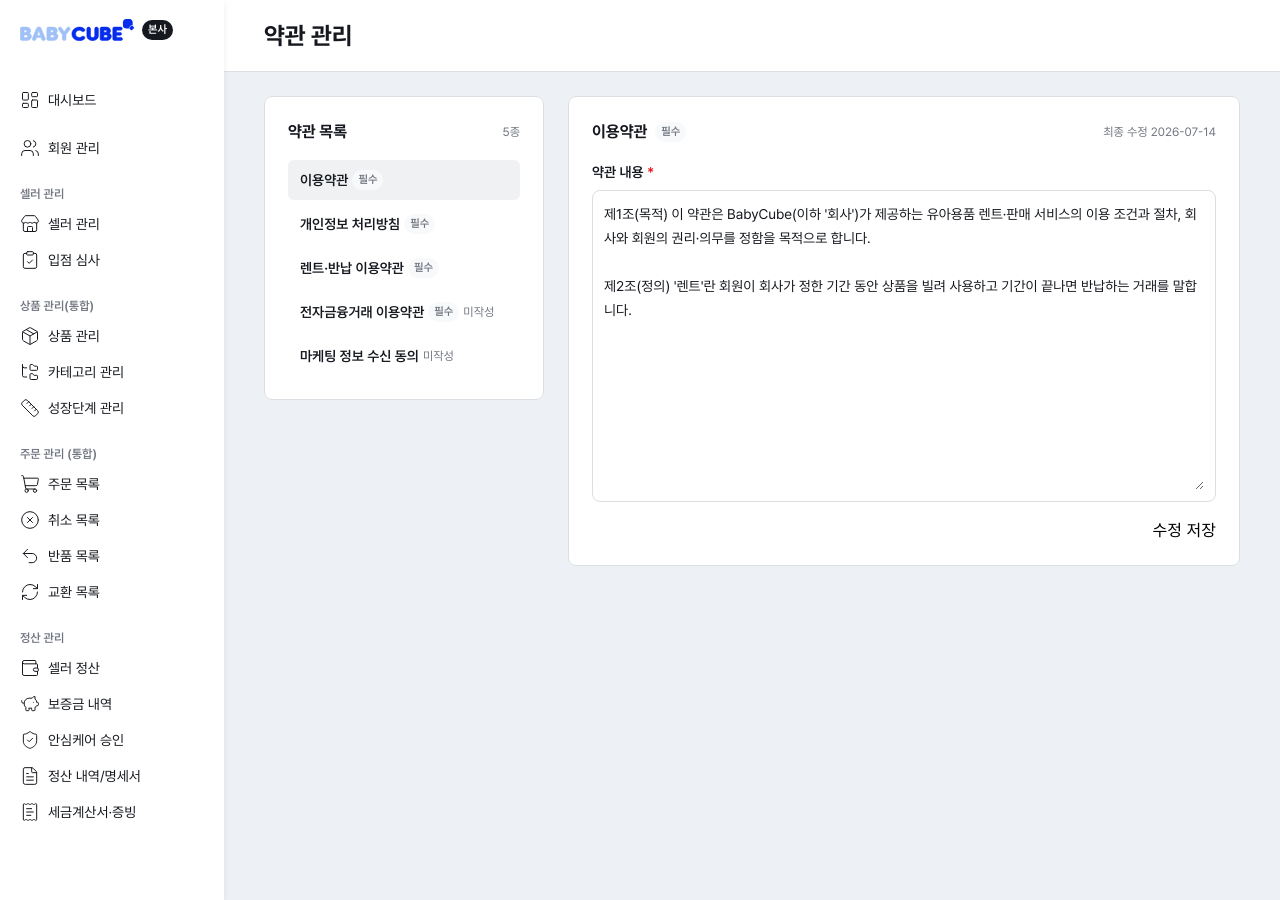
Scenario: TermsAdminPage › 우측 편집 카드 헤더 › 고정 제목이 아니라 고른 문서의 이름과 최종 수정일을 든다
expect the heading "이용약관 필수" is shown: met, box [592, 122, 686, 142]
expect the text "최종 수정 2026-07-14" is shown: met, box [1103, 124, 1216, 140]
Click the button "렌트·반납 이용약관 필수" at (404,268), box [288, 248, 520, 288]
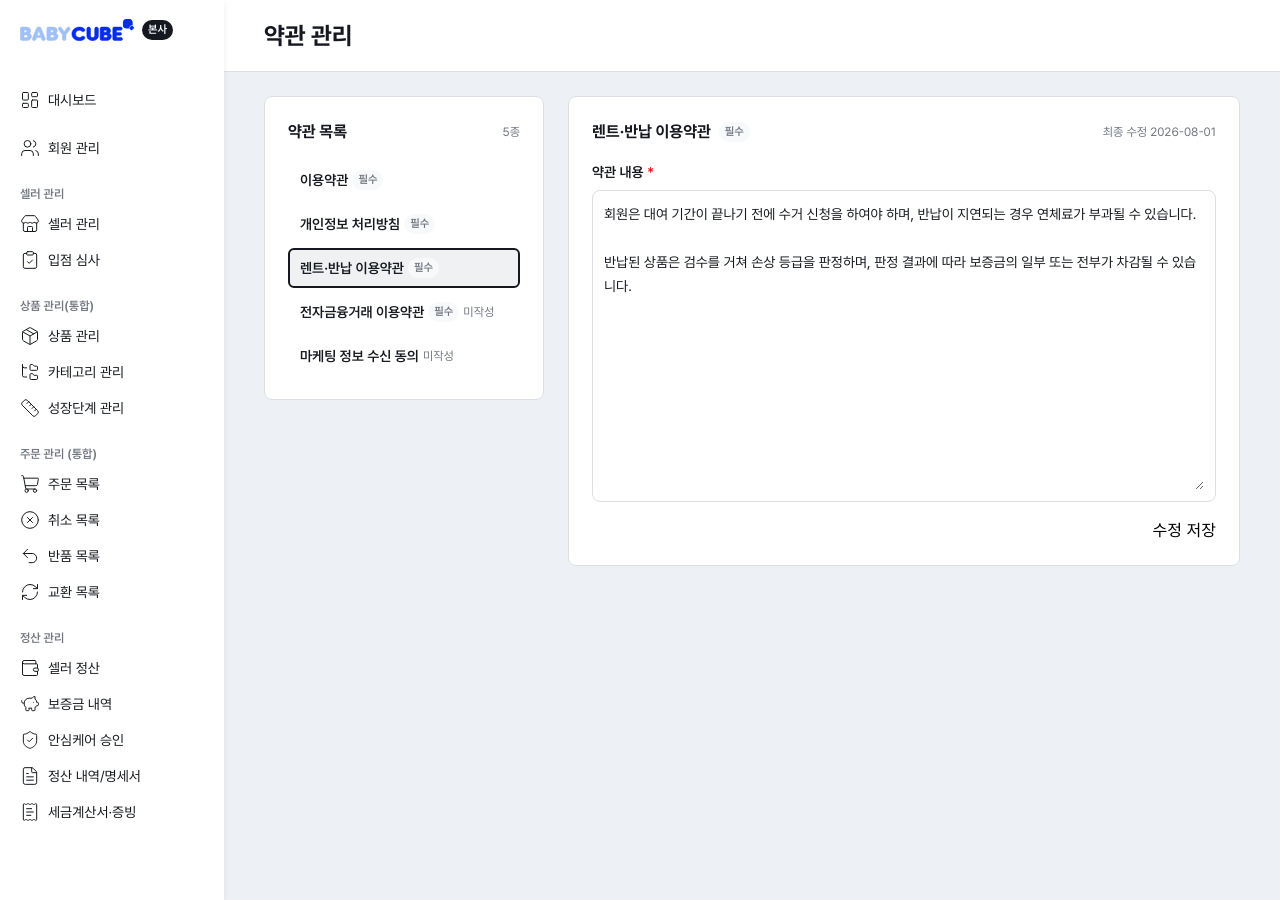
expect the text "최종 수정 2026-08-01" is shown: met, box [1103, 124, 1216, 140]
